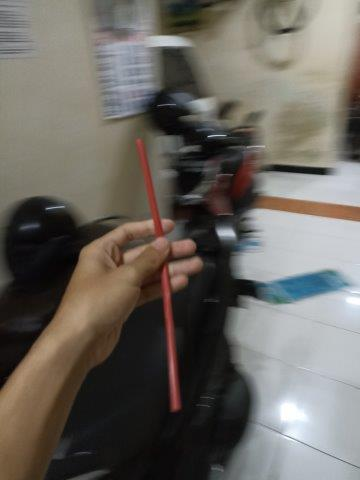sedotan: (136, 138, 181, 408)
